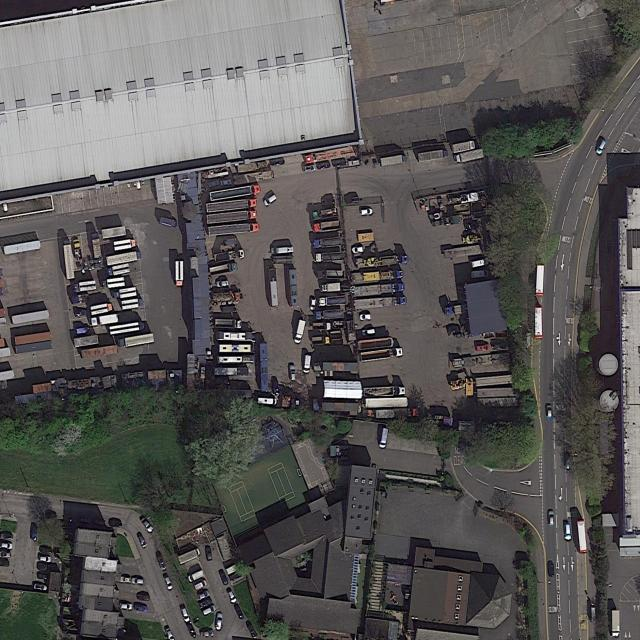large-vehicle: (303, 145, 359, 165), (451, 351, 512, 369), (209, 184, 262, 202), (351, 282, 405, 298), (354, 254, 408, 270), (352, 295, 407, 310), (350, 269, 404, 284), (208, 222, 261, 237), (206, 198, 258, 213), (206, 210, 257, 224), (360, 346, 403, 362), (117, 332, 154, 349), (106, 250, 142, 266), (376, 407, 420, 420), (63, 238, 76, 280), (109, 321, 145, 336), (454, 147, 485, 164), (363, 386, 406, 398), (259, 341, 269, 392), (213, 248, 246, 263), (312, 234, 344, 249), (287, 268, 299, 308), (208, 262, 238, 278), (216, 330, 256, 342), (268, 267, 279, 308), (312, 219, 342, 234), (90, 312, 120, 327), (417, 149, 448, 163), (576, 519, 588, 555), (217, 354, 256, 365), (177, 548, 201, 565), (379, 154, 408, 168), (451, 140, 480, 154), (444, 302, 471, 317), (213, 366, 249, 377), (312, 208, 339, 222), (293, 318, 307, 345), (316, 308, 345, 321), (535, 263, 546, 296), (314, 251, 344, 263), (218, 344, 254, 354), (72, 279, 97, 293), (106, 262, 130, 276), (113, 286, 137, 300), (113, 238, 137, 252), (91, 302, 113, 317), (101, 276, 126, 289), (90, 232, 102, 259), (318, 296, 347, 307), (214, 318, 242, 329), (534, 305, 543, 339), (121, 297, 144, 310), (316, 270, 346, 279), (611, 609, 620, 639), (72, 238, 83, 261), (187, 569, 205, 583), (159, 216, 178, 229), (175, 260, 184, 287), (320, 282, 342, 293), (270, 246, 294, 255), (379, 427, 389, 448), (72, 293, 91, 304), (258, 396, 277, 406), (312, 322, 331, 331), (311, 336, 330, 345), (303, 355, 312, 374)
small-vehicle: (245, 620, 259, 639), (155, 555, 168, 572), (141, 517, 154, 533), (186, 622, 198, 639), (233, 603, 244, 620), (471, 259, 489, 269), (464, 219, 479, 231), (218, 570, 229, 586), (227, 589, 238, 605), (180, 606, 190, 623), (597, 139, 607, 156), (228, 570, 242, 582), (224, 237, 239, 248), (163, 575, 173, 591), (264, 194, 277, 206), (199, 598, 213, 609), (202, 605, 216, 616), (470, 270, 489, 278), (138, 534, 148, 549), (332, 159, 348, 168), (30, 526, 39, 542), (564, 523, 572, 541), (269, 158, 285, 167), (447, 323, 460, 334), (194, 579, 207, 590), (197, 590, 210, 601), (317, 161, 331, 171), (564, 453, 572, 470), (215, 613, 223, 630), (33, 583, 48, 592), (491, 342, 506, 351), (272, 380, 280, 396), (302, 164, 316, 173), (109, 520, 123, 529), (345, 196, 360, 204), (120, 602, 133, 611), (39, 547, 53, 555), (134, 604, 148, 612), (205, 547, 213, 561), (137, 594, 151, 602), (200, 630, 215, 637), (548, 561, 555, 576), (289, 365, 296, 380), (38, 564, 51, 572), (322, 198, 335, 206), (348, 159, 361, 167), (93, 518, 106, 526), (360, 208, 373, 216), (362, 329, 376, 336), (222, 306, 236, 313), (546, 404, 553, 418), (37, 573, 49, 581), (352, 246, 364, 254), (46, 511, 57, 519), (78, 516, 92, 522), (132, 578, 144, 585), (39, 555, 51, 562), (477, 344, 489, 351), (75, 310, 87, 317), (359, 315, 372, 321), (310, 298, 316, 311), (549, 511, 554, 526), (216, 281, 228, 287)
storage-tank: (595, 390, 620, 412), (595, 354, 618, 376)
